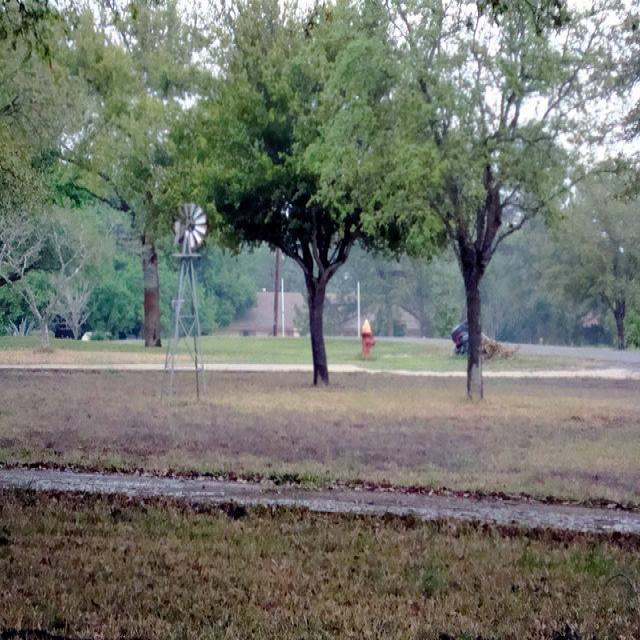fire_hydrant: (356, 318, 376, 361)
